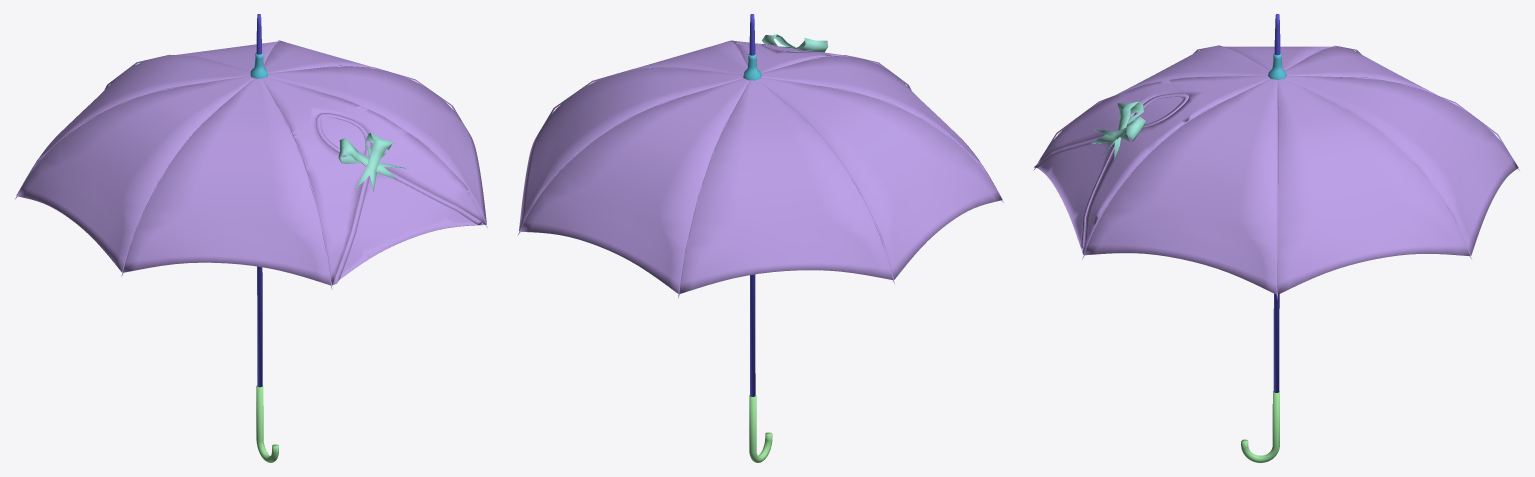
File: san1.obj
The picture shows the model from 3 angles, left to right: view 1: azimuth 30°, elevation 25°; view 2: azimuth 150°, elevation 25°; view 3: azimuth 270°, elevation 25°; orthographic projection. The views are drawn at different scales.
Visible parts, largest first — view 1: Obj3d66_458535_10_79, Obj3d66_458535_9_241, Obj3d66_458535_8_196, Obj3d66_458535_12_529, Obj3d66_458535_1_86, Obj3d66_458535_5_130, Obj3d66_458535_13_406; view 2: Obj3d66_458535_10_79, Obj3d66_458535_9_241, Obj3d66_458535_1_86, Obj3d66_458535_5_130; view 3: Obj3d66_458535_10_79, Obj3d66_458535_9_241, Obj3d66_458535_8_196, Obj3d66_458535_1_86, Obj3d66_458535_5_130, Obj3d66_458535_13_406, Obj3d66_458535_12_529.
Part boxes in pixels (x1,y1,x2,y2): Obj3d66_458535_10_79: (16, 41, 486, 285); Obj3d66_458535_9_241: (15, 40, 487, 289); Obj3d66_458535_8_196: (316, 113, 485, 285); Obj3d66_458535_12_529: (355, 132, 393, 191); Obj3d66_458535_1_86: (256, 385, 278, 462); Obj3d66_458535_5_130: (257, 266, 262, 387); Obj3d66_458535_13_406: (338, 137, 406, 179); Obj3d66_458535_10_79: (519, 40, 1002, 293); Obj3d66_458535_9_241: (517, 40, 1003, 298); Obj3d66_458535_1_86: (749, 395, 772, 462); Obj3d66_458535_5_130: (750, 274, 755, 396); Obj3d66_458535_10_79: (1036, 46, 1518, 294); Obj3d66_458535_9_241: (1033, 45, 1519, 299); Obj3d66_458535_8_196: (1034, 93, 1188, 253); Obj3d66_458535_1_86: (1241, 391, 1279, 462); Obj3d66_458535_5_130: (1273, 293, 1279, 392); Obj3d66_458535_13_406: (1102, 101, 1143, 160); Obj3d66_458535_12_529: (1091, 117, 1145, 143).
Bounding box in the file's own units: 96.25 × 100 × 98.7.
